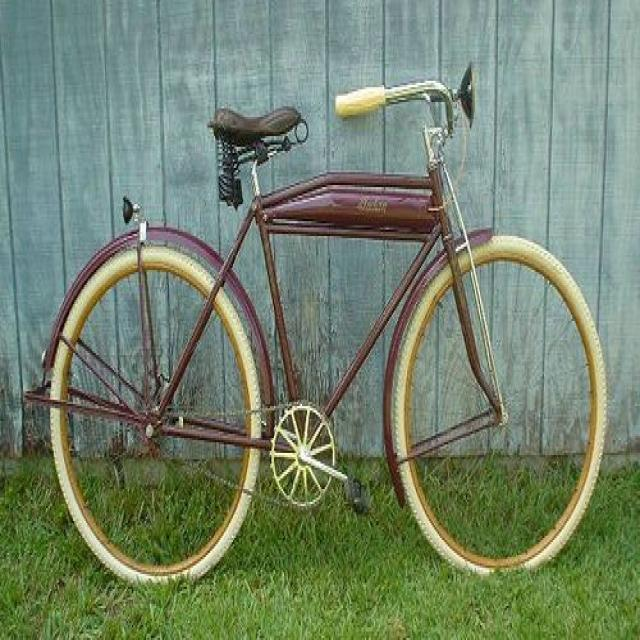bicycle: (26, 69, 606, 581)
